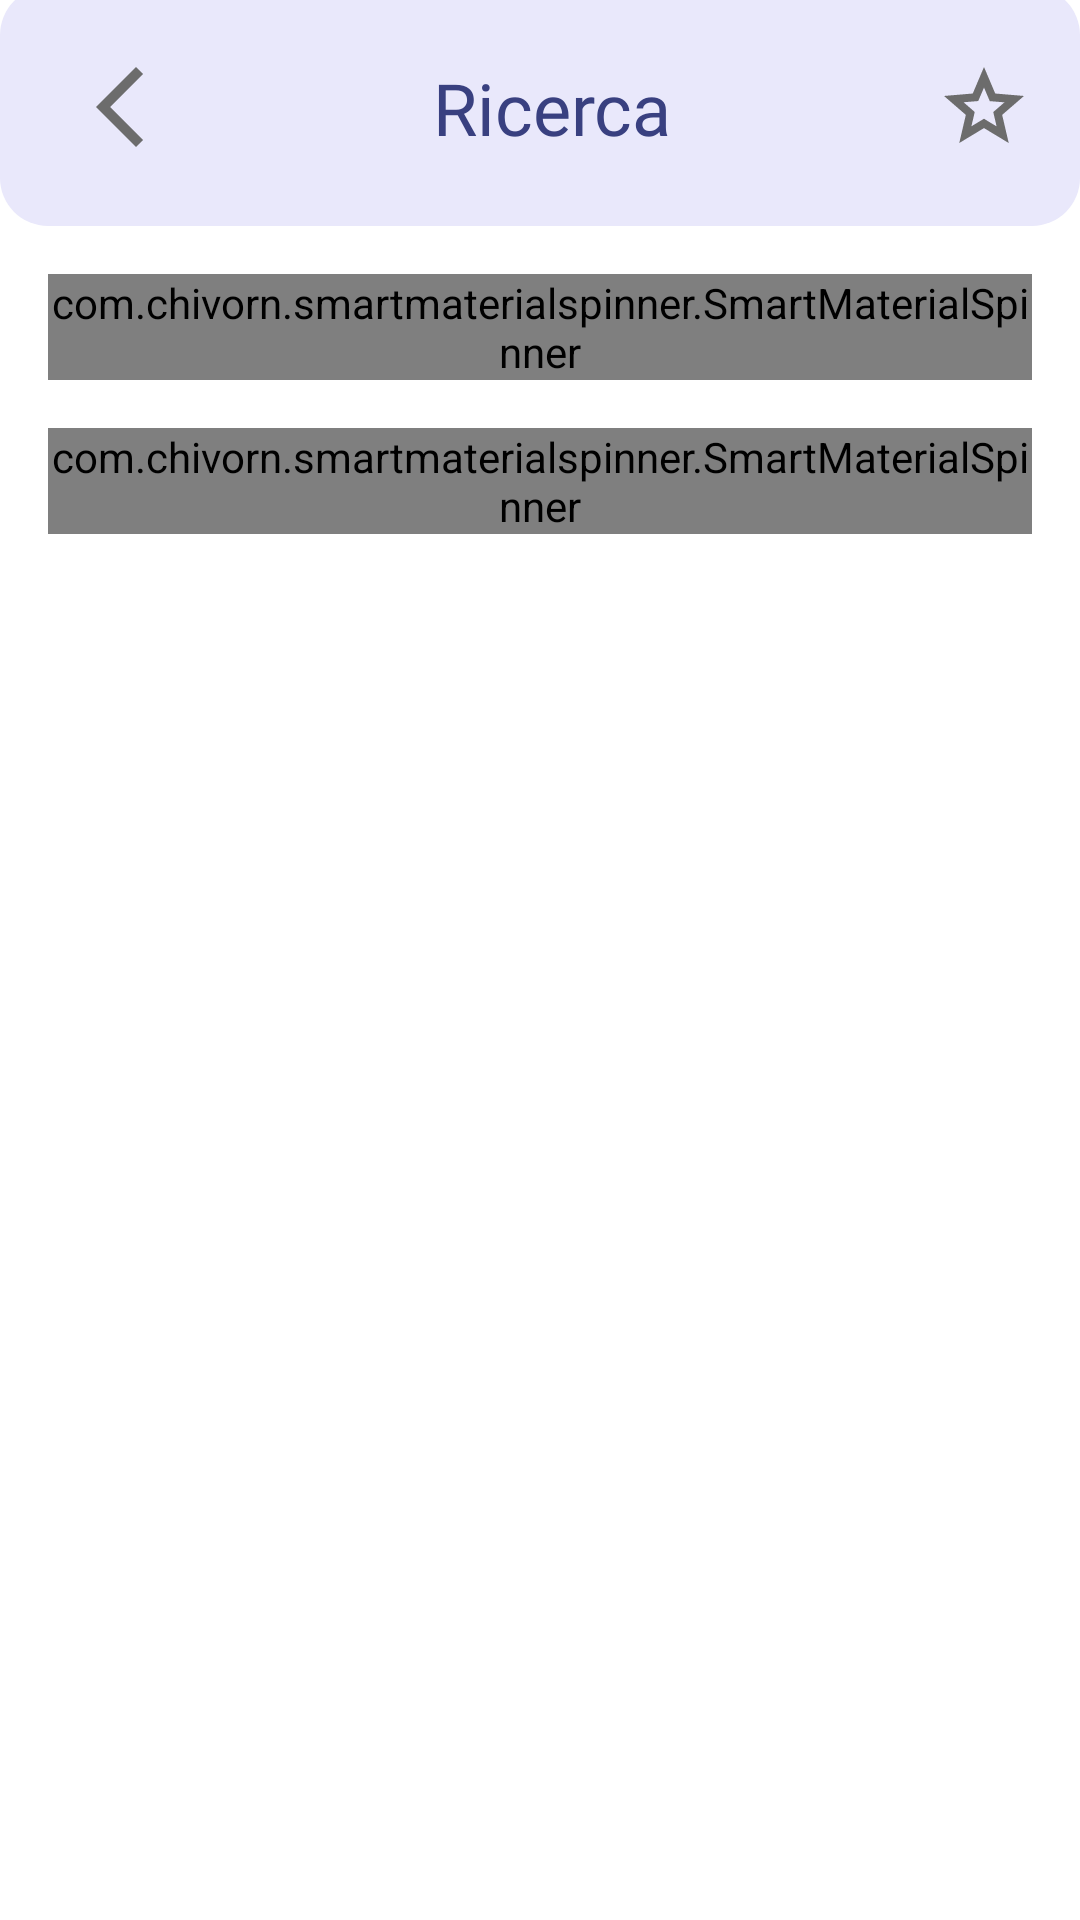

Icon click points for this 1080x1920 phone screenshot, format point (x, y):
arrow left: point (119, 107)
star: point (984, 105)
